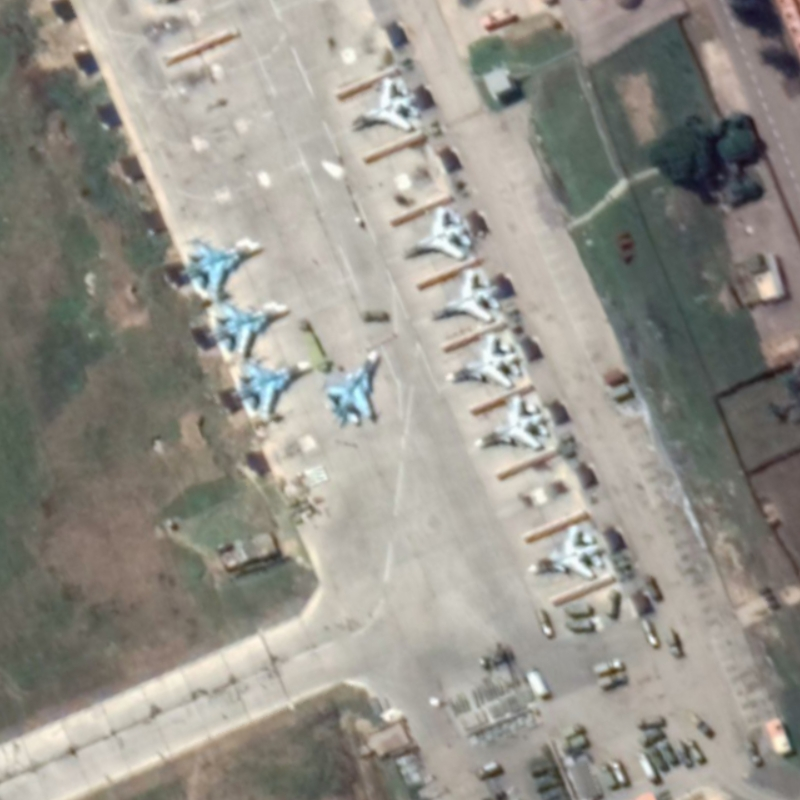A1: (346, 74, 422, 132), (399, 204, 474, 261), (426, 266, 500, 323)
A19: (177, 237, 264, 302), (229, 358, 313, 424), (207, 298, 291, 359), (469, 391, 550, 453), (442, 330, 524, 390), (322, 348, 382, 429), (526, 522, 606, 581)
